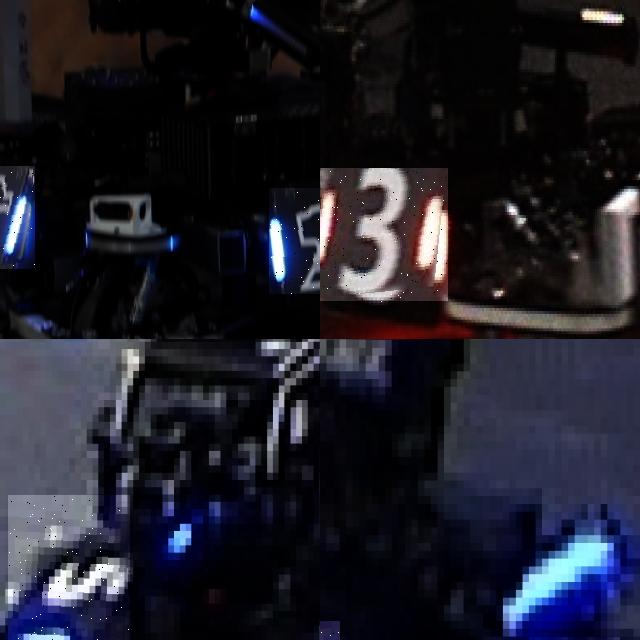B5: (8, 494, 130, 640)
Bs: (269, 188, 320, 294), (0, 165, 35, 269)
R3: (320, 168, 448, 302)
